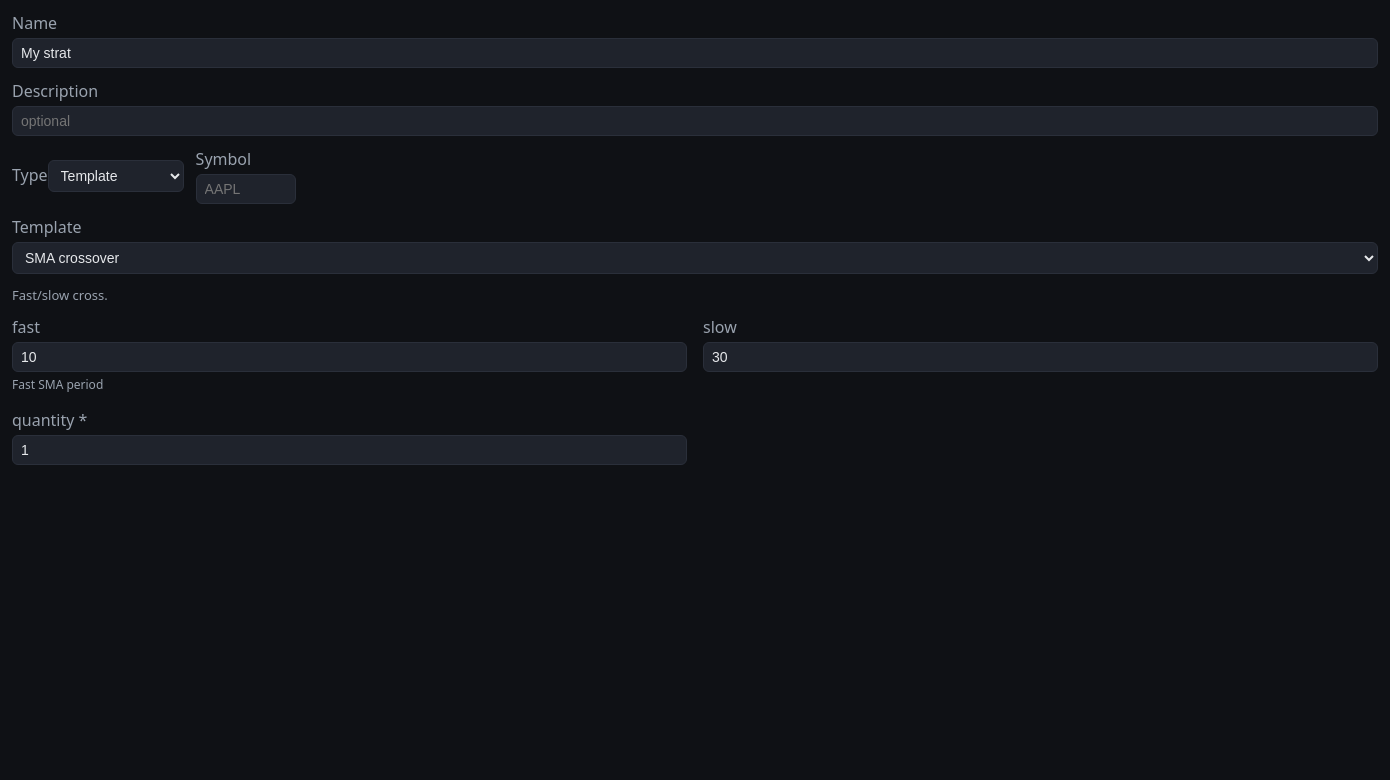
Scenario: StrategyEditor › switching to the weight track drops the single-symbol spec shape
Select "Weight portfolio" in the dropdown named "strategy type" at (116, 176), box [48,160,184,192]
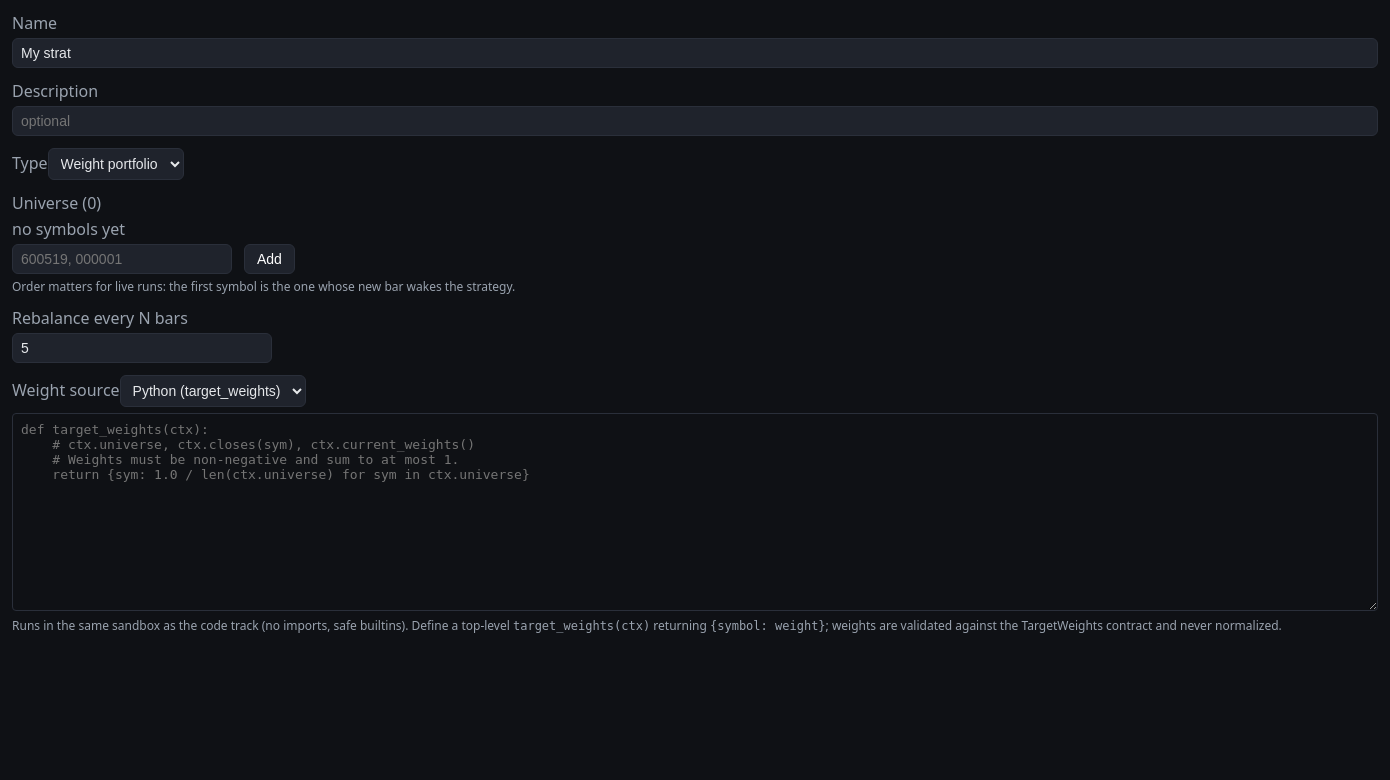
Expected: the number field labelled "Rebalance every N bars" holds "5", [12,333,272,363]
Expected: the field named "add symbols" is shown, [12,244,232,274]
